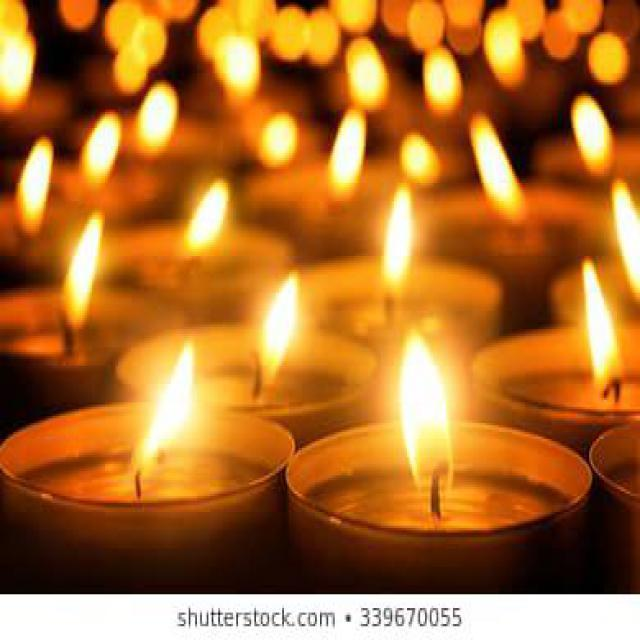Fire: (396, 330, 454, 495), (136, 341, 197, 466), (583, 256, 623, 393), (62, 208, 105, 332), (258, 272, 298, 398), (383, 185, 413, 306)
